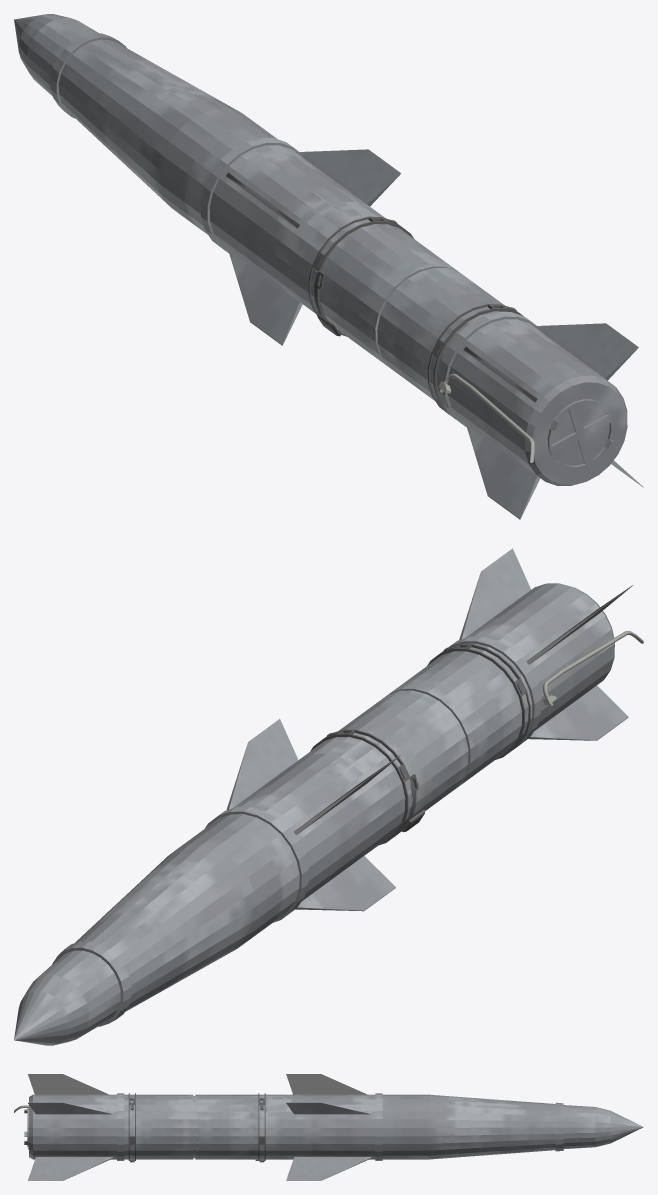
The model's file is w_kinzhal.glb.
3 renders of one model, top to bottom at view 1: azimuth 30°, elevation 25°; view 2: azimuth 150°, elevation 25°; view 3: azimuth 270°, elevation 25°, orthographic. The views are drawn at different scales.
Parts seen in each view (by area): view 1: body|sdsd, body|Charcoal, body|DarkGoldenrod; view 2: body|sdsd, body|Charcoal, body|DarkGoldenrod; view 3: body|sdsd, body|Charcoal.
Boxes of the visible parts, x1,y1,x2,y2 form: body|sdsd: [14, 14, 643, 519]; body|Charcoal: [226, 172, 537, 418]; body|DarkGoldenrod: [438, 373, 534, 462]; body|sdsd: [14, 548, 628, 1045]; body|Charcoal: [294, 585, 633, 845]; body|DarkGoldenrod: [543, 630, 643, 706]; body|sdsd: [24, 1093, 643, 1180]; body|Charcoal: [28, 1074, 367, 1162].
Bounding box in the file's own units: 0.9225 × 0.9861 × 7.2.
Materials: 3 (1 with a texture image).
